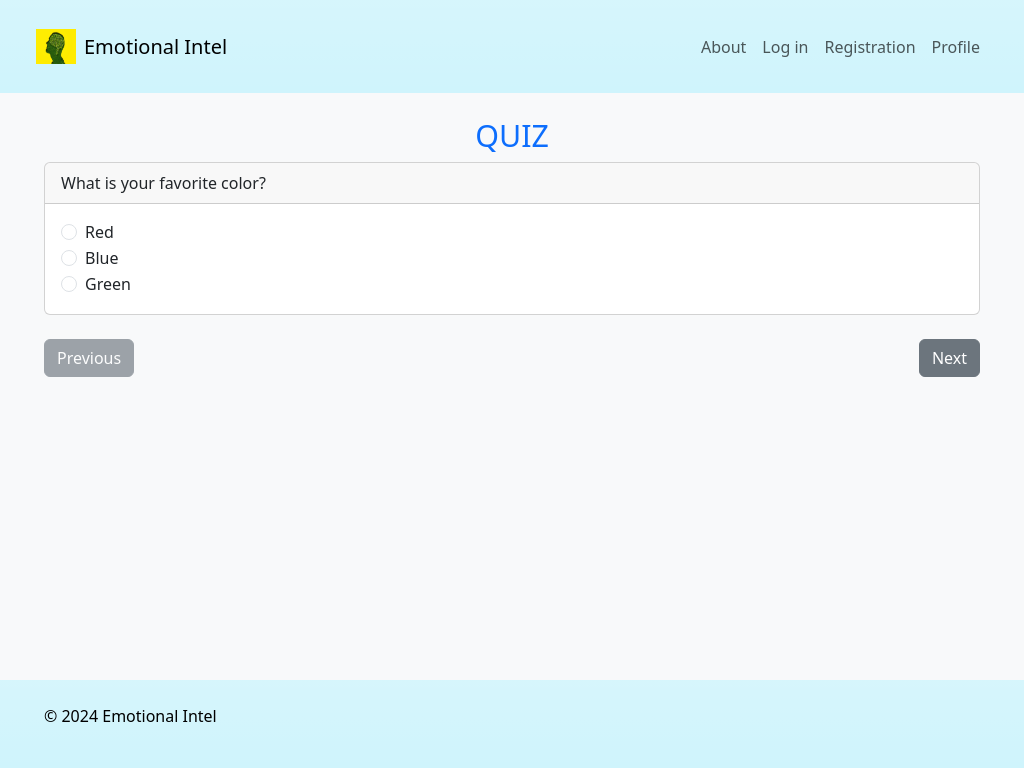
QuestionComponent › should navigate to the previous question
The width and height of the screenshot is (1024, 768).
Click the button "Next" at {"x": 950, "y": 358}, box [919,339,980,377]
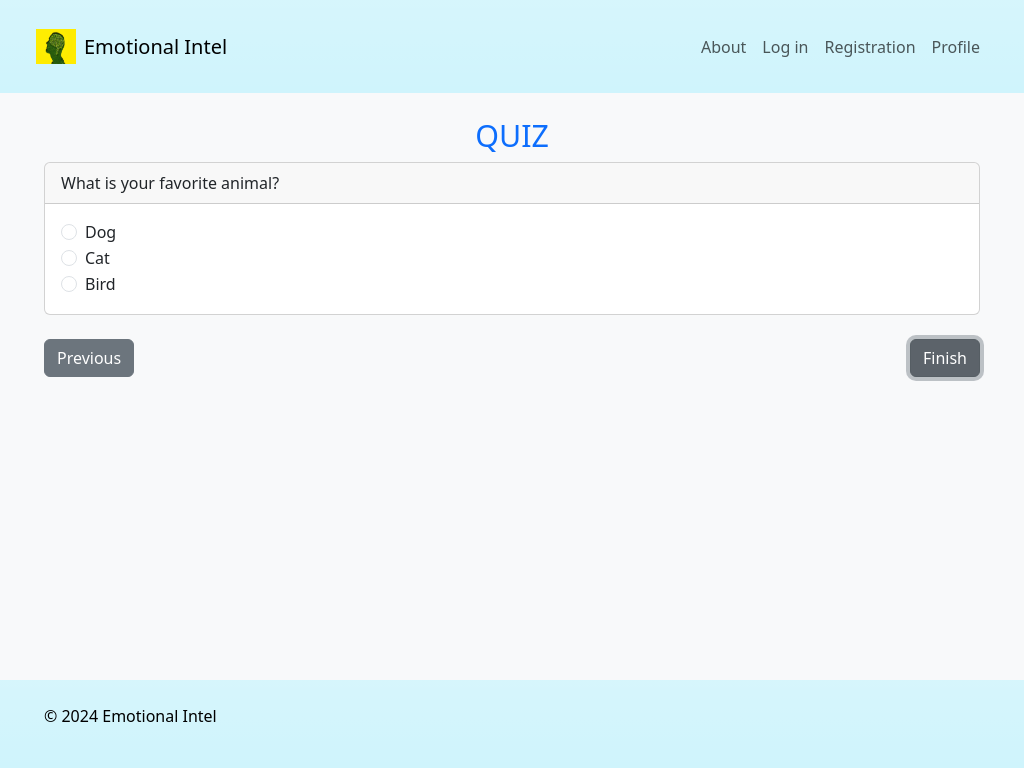
Click the button "Previous" at {"x": 89, "y": 358}, box [44,339,134,377]
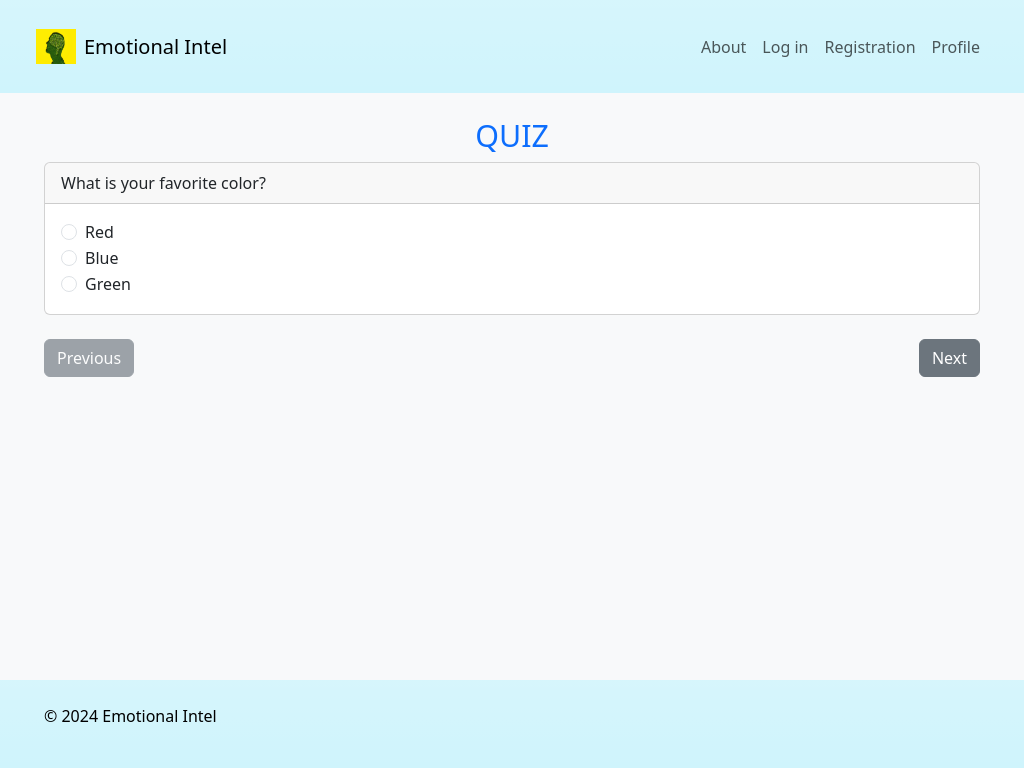
Result: the text with class "card-header" reads "What is your favorite color?" at [45,163,979,204]
